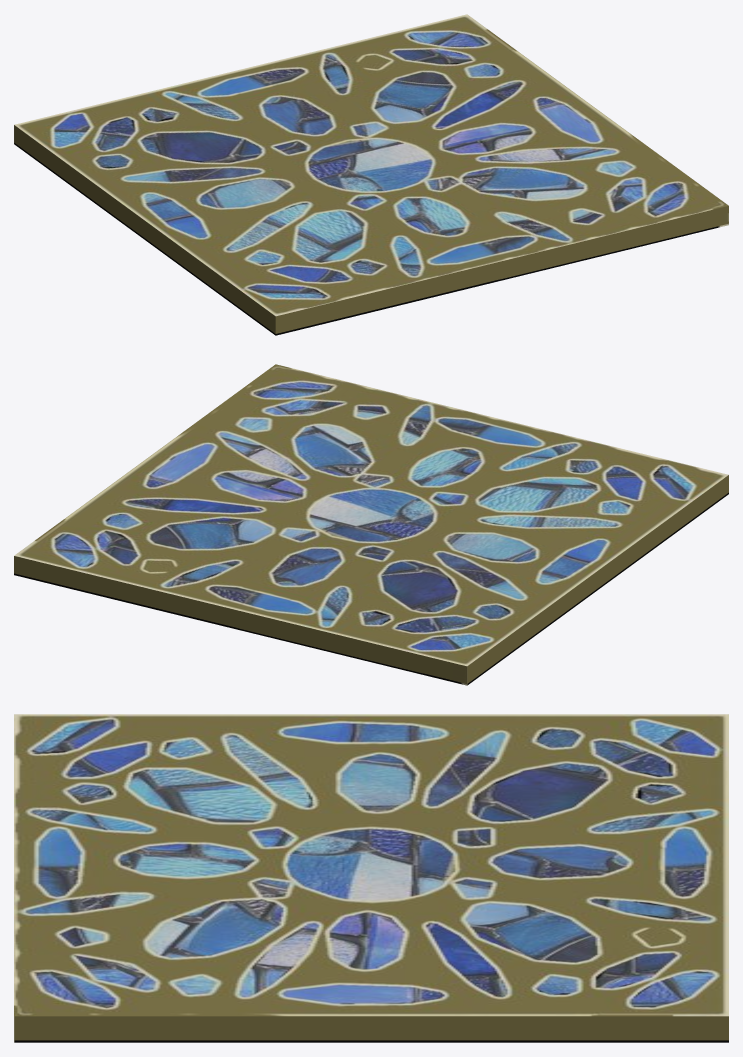
The model's file is tile2Compressed.glb.
3 views of the same model, one above another, from view 1: azimuth 30°, elevation 25°; view 2: azimuth 150°, elevation 25°; view 3: azimuth 270°, elevation 25° (orthographic). The views are drawn at different scales.
Parts seen in each view (by area): view 1: tile2; view 2: tile2; view 3: tile2.
Boxes of the visible parts, x1,y1,x2,y2 form: tile2: (14,14,728,335); tile2: (14,364,728,685); tile2: (14,714,728,1042).
Bounding box in the file's own units: 1 × 0.16 × 1.
Materials: 2 (1 with a texture image).
